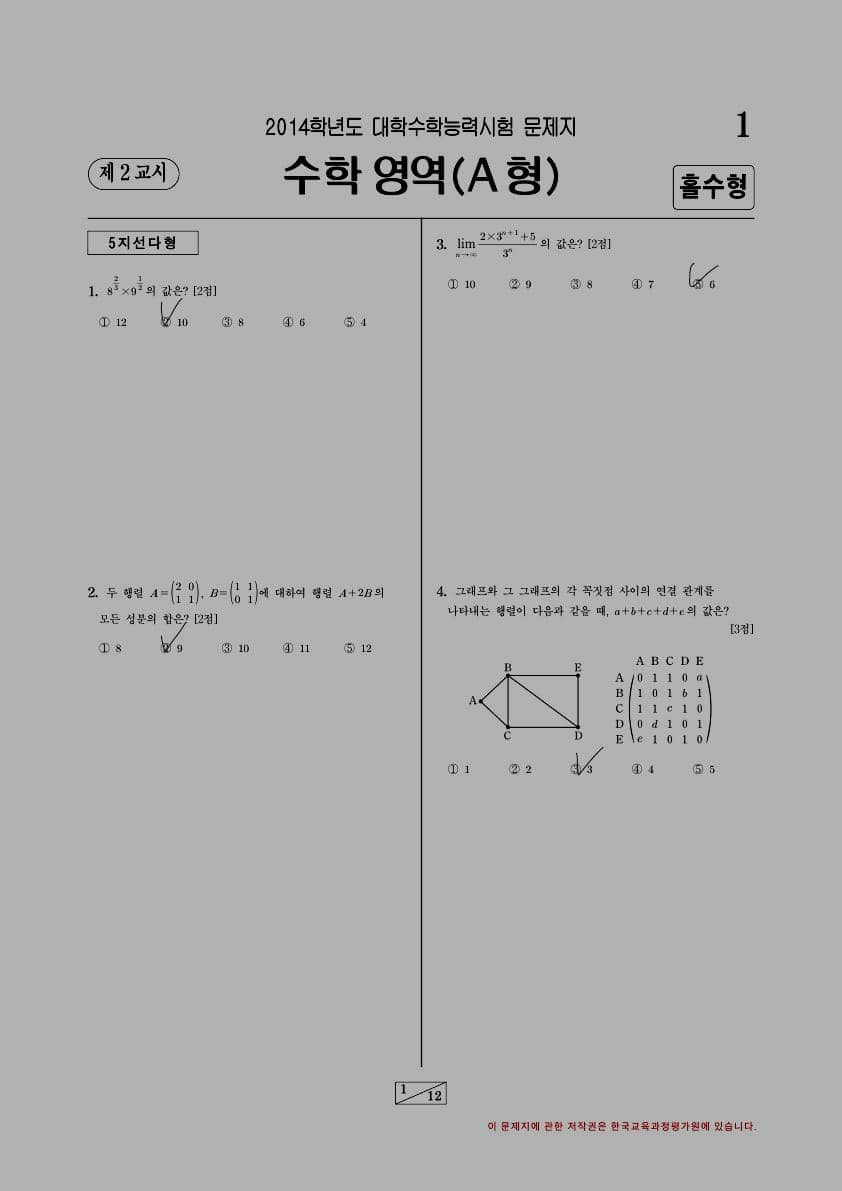question: (424, 573, 762, 796), (68, 571, 400, 671), (63, 268, 390, 348), (426, 224, 731, 309)
